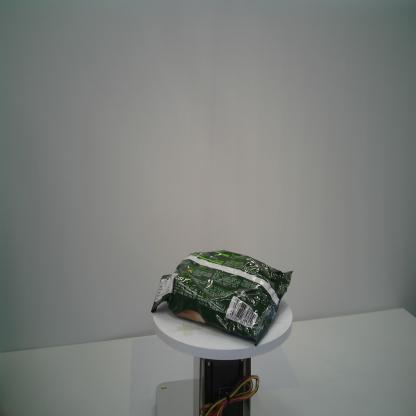Instant Noodles: (152, 247, 292, 349)
